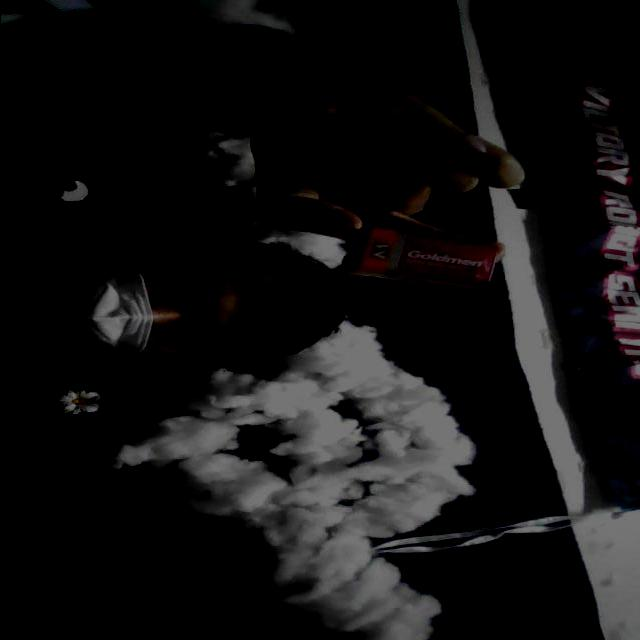9V: (335, 222, 510, 294)
